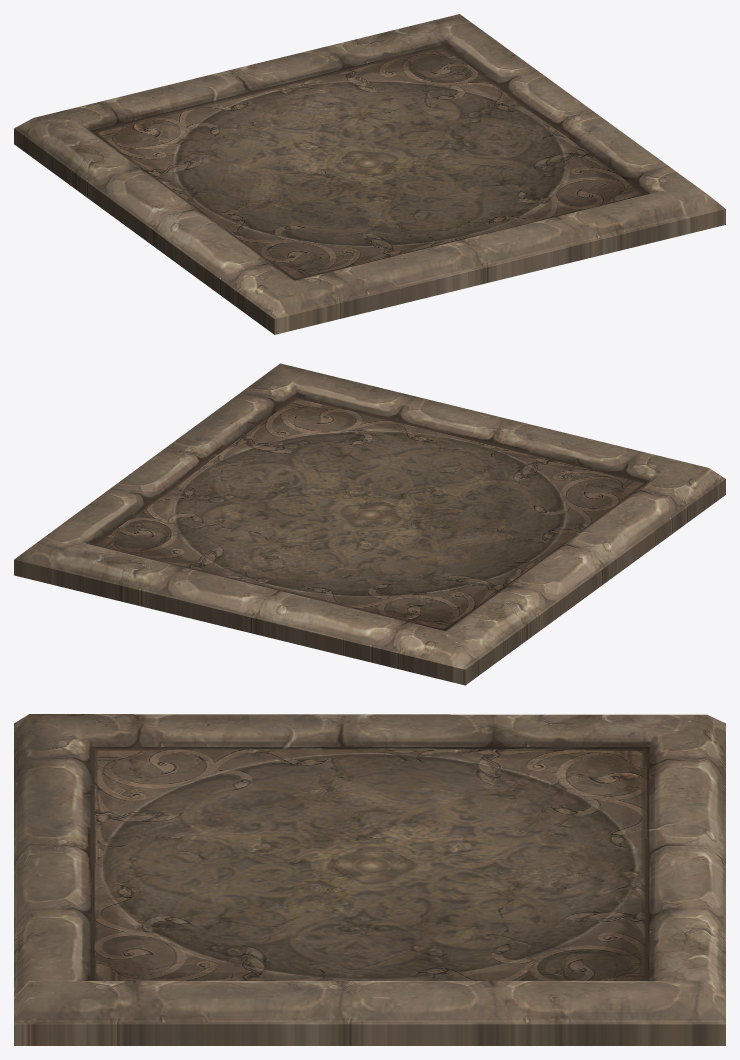
Rendered from floor_brick_k021.FBX.
3 renders of one model, top to bottom at view 1: azimuth 30°, elevation 25°; view 2: azimuth 150°, elevation 25°; view 3: azimuth 270°, elevation 25°, orthographic. The views are drawn at different scales.
Visible parts, largest first — view 1: floor_brick_k021; view 2: floor_brick_k021; view 3: floor_brick_k021.
Part boxes in pixels (bbox=[...]): floor_brick_k021: bbox=[14, 14, 725, 334]; floor_brick_k021: bbox=[14, 363, 725, 685]; floor_brick_k021: bbox=[14, 714, 725, 1045].
Size of the model in its own units: 3 by 0.1787 by 3.
